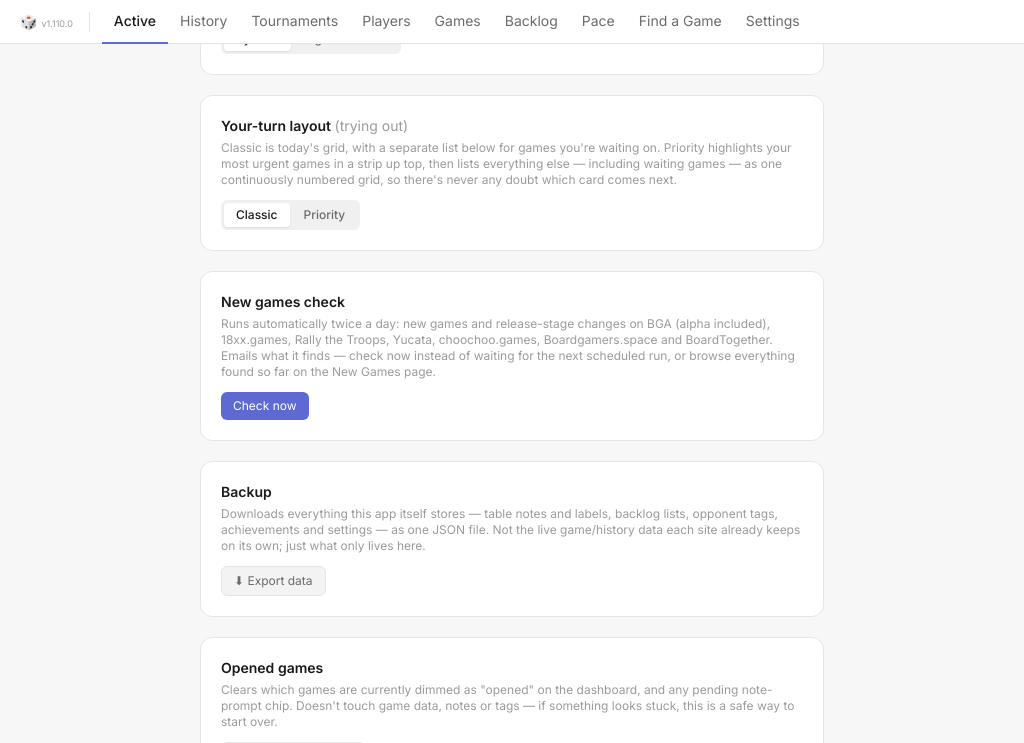
Scenario: Setup page: New games check › surfaces a source error without hiding anything else that was found
The image size is (1024, 743).
(page scrolled)
Click the button "Check now".
click(265, 406)  # box [221,392,309,420]
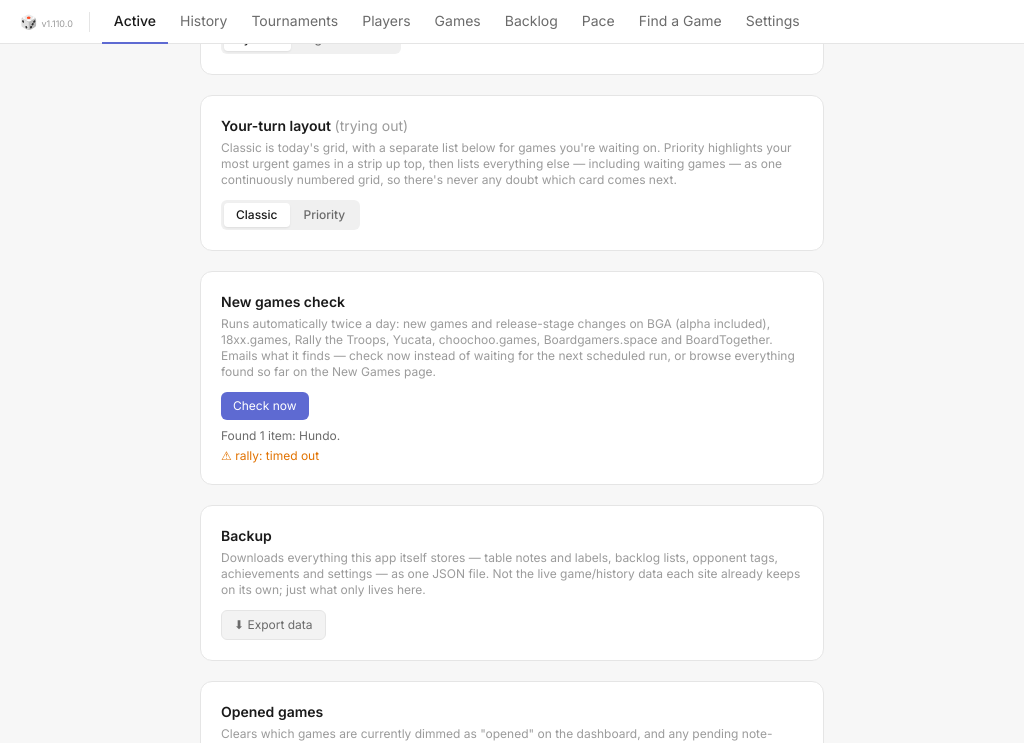
Expected: the text "Found 1 item: Hundo. ⚠ rally: timed out" is shown, [221,428,340,463]
Expected: the text "⚠ rally: timed out" is shown, [221,448,319,463]
